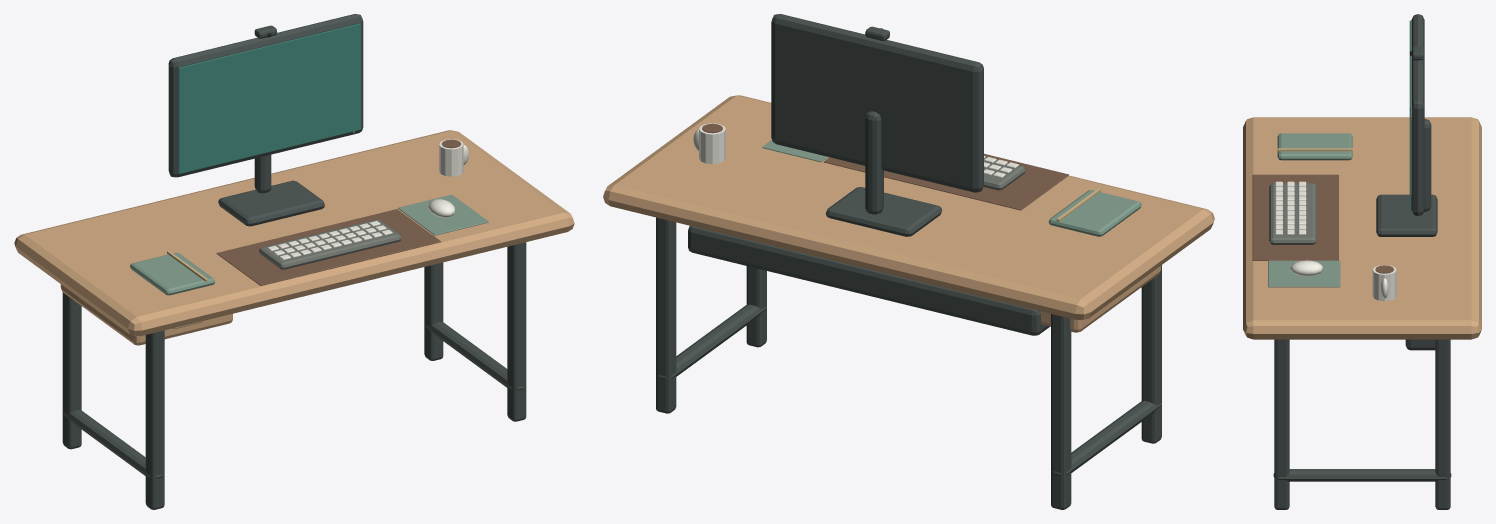
File: desk.glb
3 renders of one model, left to right at view 1: azimuth 30°, elevation 25°; view 2: azimuth 150°, elevation 25°; view 3: azimuth 270°, elevation 25°, orthographic. The views are drawn at different scales.
Visible parts, largest first — view 1: desk Warm ash wood, desk Graphite powder coat, Screen, desk Walnut accents, desk Sage upholstery, desk Warm porcelain, Keyboard; view 2: desk Graphite powder coat, desk Warm ash wood, desk Walnut accents, desk Sage upholstery, desk Warm porcelain; view 3: desk Warm ash wood, desk Graphite powder coat, desk Walnut accents, desk Sage upholstery, desk Warm porcelain, Keyboard, Screen, desk Brushed brass.
Part boxes in pixels (<box>): desk Warm ash wood: <box>14,130,574,345</box>; desk Graphite powder coat: <box>62,14,526,509</box>; Screen: <box>178,23,360,173</box>; desk Walnut accents: <box>216,139,460,285</box>; desk Sage upholstery: <box>130,194,488,295</box>; desk Warm porcelain: <box>267,139,468,260</box>; Keyboard: <box>259,219,401,269</box>; desk Graphite powder coat: <box>656,14,1161,509</box>; desk Warm ash wood: <box>603,95,1214,332</box>; desk Walnut accents: <box>702,123,1068,210</box>; desk Sage upholstery: <box>762,140,1141,236</box>; desk Warm porcelain: <box>693,123,1018,178</box>; desk Warm ash wood: <box>1243,117,1481,339</box>; desk Graphite powder coat: <box>1273,14,1451,509</box>; desk Walnut accents: <box>1252,174,1393,273</box>; desk Sage upholstery: <box>1268,133,1352,287</box>; desk Warm porcelain: <box>1275,181,1396,301</box>; Keyboard: <box>1269,183,1316,244</box>; Screen: <box>1409,20,1410,209</box>; desk Brushed brass: <box>1277,148,1352,151</box>.
Size of the model in its own units: 1.8 by 1.48 by 0.86.
